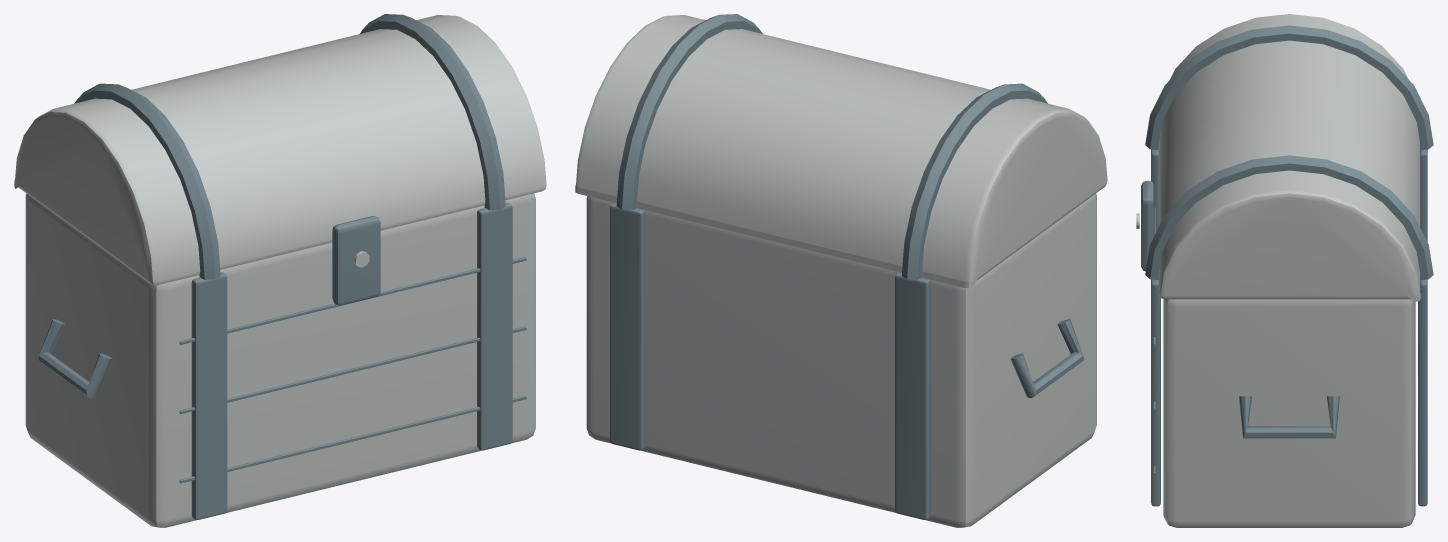
Rendered from treasure-chest.glb.
The picture shows the model from 3 angles, left to right: view 1: azimuth 30°, elevation 25°; view 2: azimuth 150°, elevation 25°; view 3: azimuth 270°, elevation 25°; orthographic projection. The views are drawn at different scales.
Parts seen in each view (by area): view 1: chest_body, arched_lid, front_iron_band, front_iron_band.001, arched_iron_band.001, arched_iron_band, lock_plate, side_handle, plank_seam, plank_seam.001, plank_seam.002; view 2: chest_body, arched_lid, rear_iron_band, rear_iron_band.001, arched_iron_band.001, arched_iron_band, side_handle; view 3: arched_lid, chest_body, arched_iron_band.001, arched_iron_band, rear_iron_band.001, front_iron_band.001, side_handle.001, lock_plate, rear_iron_band, front_iron_band.
Part boxes in pixels (<box>): chest_body: <box>25,193,535,527</box>; arched_lid: <box>14,15,546,285</box>; front_iron_band: <box>191,272,227,519</box>; front_iron_band.001: <box>477,203,512,450</box>; arched_iron_band.001: <box>360,14,505,210</box>; arched_iron_band: <box>74,83,220,279</box>; lock_plate: <box>332,216,380,305</box>; side_handle: <box>38,319,111,398</box>; plank_seam: <box>179,395,526,483</box>; plank_seam.001: <box>179,326,526,413</box>; plank_seam.002: <box>179,257,526,344</box>; chest_body: <box>586,193,1096,527</box>; arched_lid: <box>575,15,1107,288</box>; rear_iron_band: <box>895,272,930,519</box>; rear_iron_band.001: <box>610,203,645,450</box>; arched_iron_band.001: <box>616,14,762,210</box>; arched_iron_band: <box>901,83,1047,279</box>; side_handle: <box>1010,319,1084,398</box>; arched_lid: <box>1158,14,1421,302</box>; chest_body: <box>1163,299,1415,527</box>; arched_iron_band.001: <box>1145,155,1433,279</box>; arched_iron_band: <box>1145,25,1433,150</box>; rear_iron_band.001: <box>1418,279,1427,506</box>; front_iron_band.001: <box>1151,279,1160,506</box>; side_handle.001: <box>1239,396,1339,438</box>; lock_plate: <box>1141,180,1154,271</box>; rear_iron_band: <box>1421,149,1427,241</box>; front_iron_band: <box>1151,149,1158,232</box>.
Bounding box in the file's own units: 0.8565 × 0.713 × 0.5418.
